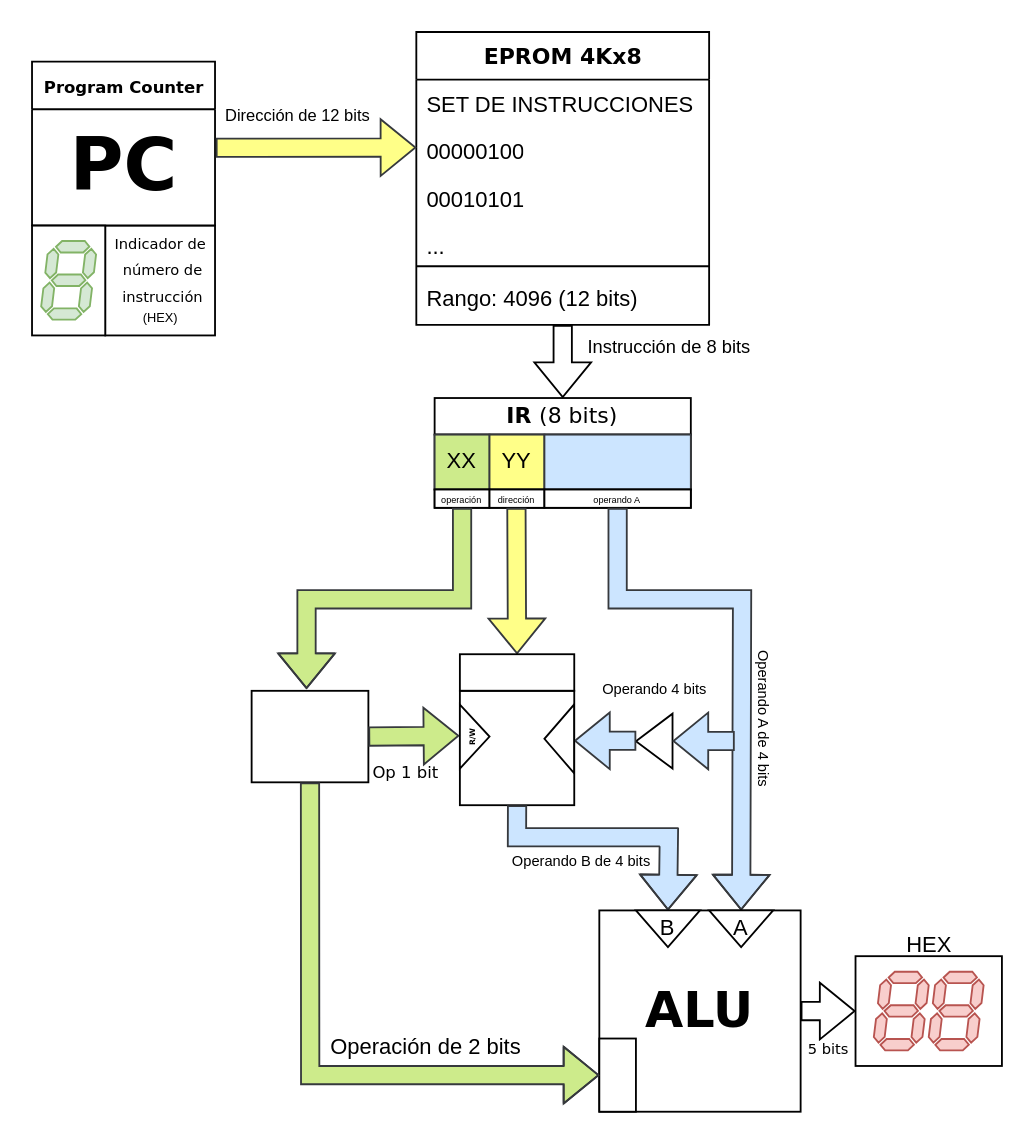
Some shapes in this 1034 by 1144 pixel diagram are drawn without their labels. The centre of each missing label's shape, as x and y in pixels:
"AAAA" belongs at (617,461).
"DECODER 2 a 3" belongs at (309,735).
"OI" belongs at (558,738).
"RAM 4x4" belongs at (516,671).
"SEL" belongs at (616,1074).
